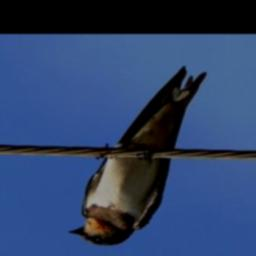Swallow: (66, 67, 208, 248)
